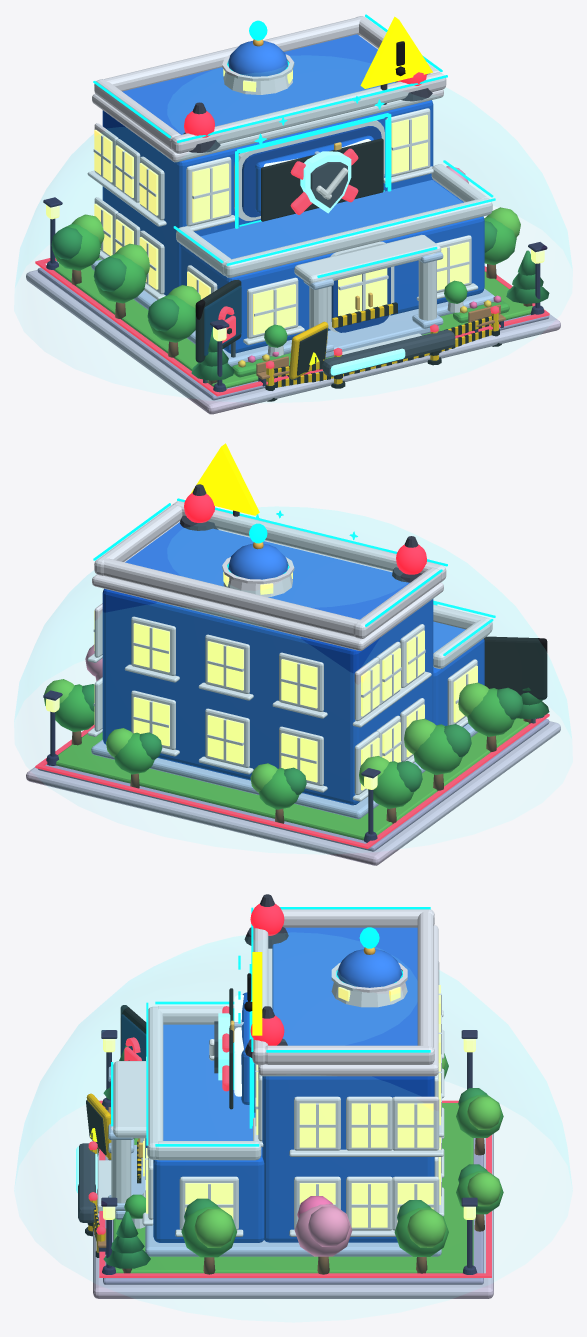
The picture shows the model from 3 angles, top to bottom: view 1: azimuth 30°, elevation 25°; view 2: azimuth 150°, elevation 25°; view 3: azimuth 270°, elevation 25°; orthographic projection. The views are drawn at different scales.
Parts seen in each view (by area): view 1: B02_body, B02_state_recovery_shield_dome, B02_door, B02_plot, B02_trees_leaf, B02_windows_front, B02_windows_side, B02_state_incident_x_emblem, B02_emblem, B02_props, B02_cupola, B02_state_incident_barrier (+12 smaller); view 2: B02_body, B02_plot, B02_windows_back, B02_trees_leaf, B02_state_recovery_shield_dome, B02_windows_side, B02_state_incident_lock_sign, B02_state_incident_ring, B02_cupola, B02_state_warning_warn_sign, B02_glow, B02_props (+3 smaller); view 3: B02_body, B02_state_recovery_shield_dome, B02_plot, B02_windows_side, B02_trees_leaf, B02_door, B02_cupola, B02_state_incident_ring, B02_props, B02_glow, B02_emblem, B02_windows_back (+11 smaller).
Boxes of the visible parts, box(x1,y1,x2,y2) form: B02_body: box(91, 16, 494, 366); B02_state_recovery_shield_dome: box(15, 88, 572, 287); B02_door: box(264, 234, 467, 358); B02_plot: box(26, 257, 560, 414); B02_trees_leaf: box(51, 166, 549, 380); B02_windows_front: box(185, 108, 478, 345); B02_windows_side: box(87, 123, 217, 299); B02_state_incident_x_emblem: box(261, 138, 383, 221); B02_emblem: box(234, 117, 387, 226); B02_props: box(43, 197, 547, 392); B02_cupola: box(222, 39, 294, 94); B02_state_incident_barrier: box(265, 306, 501, 401); B02_body: box(91, 501, 492, 819); B02_plot: box(26, 718, 560, 865); B02_windows_back: box(124, 616, 327, 792); B02_trees_leaf: box(44, 644, 549, 809); B02_state_recovery_shield_dome: box(14, 506, 571, 738); B02_windows_side: box(87, 603, 477, 801); B02_state_incident_lock_sign: box(484, 636, 547, 723); B02_state_incident_ring: box(35, 713, 549, 848); B02_cupola: box(222, 542, 294, 597); B02_state_warning_warn_sign: box(190, 443, 259, 516); B02_glow: box(93, 498, 495, 655); B02_props: box(43, 690, 544, 842); B02_body: box(145, 909, 441, 1256); B02_state_recovery_shield_dome: box(15, 935, 571, 1184); B02_plot: box(93, 1103, 493, 1298); B02_windows_side: box(175, 961, 443, 1236); B02_trees_leaf: box(103, 1045, 503, 1268); B02_door: box(97, 1061, 147, 1228); B02_cupola: box(331, 947, 407, 1007); B02_state_incident_ring: box(99, 1100, 491, 1277); B02_props: box(97, 1030, 477, 1274); B02_glow: box(146, 907, 430, 1146); B02_emblem: box(230, 992, 256, 1125); B02_windows_back: box(434, 985, 444, 1216).
Size of the model in its own units: 31 by 16.6 by 27.9.
